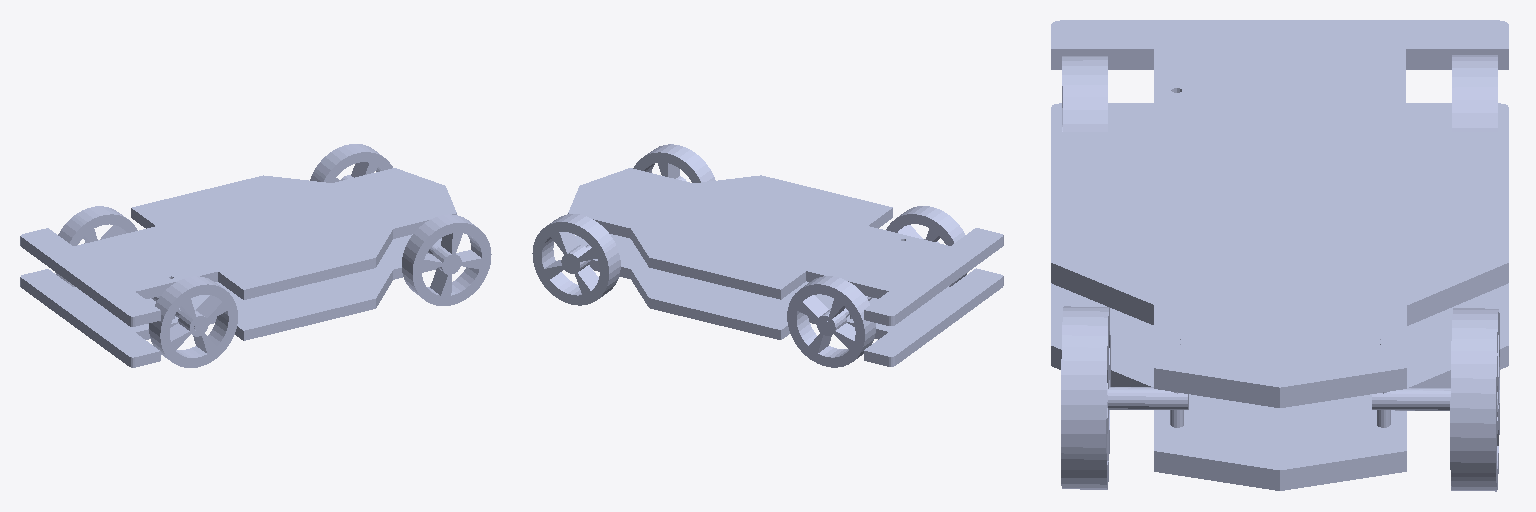
The robot description file, URDF, robot "Assem1":
<?xml version="1.0" ?>
<!-- =================================================================================== -->
<!-- |    This document was autogenerated by xacro from my_robot_integration.urdf.xacro | -->
<!-- |    EDITING THIS FILE BY HAND IS NOT RECOMMENDED                                 | -->
<!-- =================================================================================== -->
<!-- Name your robot here -->
<robot name="Assem1">
  <link name="chassis_base_link">
    <inertial>
      <origin rpy="0 0 0" xyz="-0.512674531540059 0.000153014474687185 -0.050898093669952"/>
      <mass value="19.1857141768798"/>
      <inertia ixx="0.306910302250378" ixy="-0.000859429568991598" ixz="-6.54892569443388E-10" iyy="1.21011395991777" iyz="-1.84958226856854E-10" izz="1.51472867661581"/>
    </inertial>
    <visual>
      <origin rpy="0 0 0" xyz="0 0 0"/>
      <geometry>
        <mesh filename="package://Assem1/meshes/base_link.STL"/>
      </geometry>
      <material name="">
        <color rgba="0.792156862745098 0.819607843137255 0.933333333333333 1"/>
      </material>
    </visual>
    <collision>
      <origin rpy="0 0 0" xyz="0 0 0"/>
      <geometry>
        <mesh filename="package://Assem1/meshes/base_link.STL"/>
      </geometry>
    </collision>
  </link>
  <link name="RearWheelLink">
    <inertial>
      <origin rpy="0 0 0" xyz="0.000948144504491211 -0.241806141125486 -2.22044604925031E-16"/>
      <mass value="1.93947210686836"/>
      <inertia ixx="0.00677424703879588" ixy="-2.32901067750332E-05" ixz="-7.11626362833658E-08" iyy="0.0127138524806755" iyz="-2.79035355661413E-10" izz="0.00677396797023345"/>
    </inertial>
    <visual>
      <origin rpy="0 0 0" xyz="0 0 0"/>
      <geometry>
        <mesh filename="package://Assem1/meshes/RearWheelLink.STL"/>
      </geometry>
      <material name="">
        <color rgba="0.792156862745098 0.819607843137255 0.933333333333333 1"/>
      </material>
    </visual>
    <collision>
      <origin rpy="0 0 0" xyz="0 0 0"/>
      <geometry>
        <mesh filename="package://Assem1/meshes/RearWheelLink.STL"/>
      </geometry>
    </collision>
  </link>
  <joint name="RearWheelJoint" type="continuous">
    <origin rpy="0 0 0" xyz="-0.7836 0.24183 -0.057144"/>
    <parent link="chassis_base_link"/>
    <child link="RearWheelLink"/>
    <axis xyz="-0.0039211 0.99999 0"/>
    <!-- <limit effort="0" lower="0" upper="0" velocity="0"/> -->
  </joint>
  <link name="FrontRightWheelLink">
    <inertial>
      <origin rpy="0 0 0" xyz="0.000641271779954732 0.0281208296775413 2.11071373823479E-07"/>
      <mass value="1.03741013370022"/>
      <inertia ixx="0.00349565083995949" ixy="6.53432629648742E-05" ixz="-5.42230800612793E-08" iyy="0.0063610036154418" iyz="1.22628256521874E-09" izz="0.00349433435996735"/>
    </inertial>
    <visual>
      <origin rpy="0 0 0" xyz="0 0 0"/>
      <geometry>
        <mesh filename="package://Assem1/meshes/FrontRightWheelLink.STL"/>
      </geometry>
      <material name="">
        <color rgba="0.792156862745098 0.819607843137255 0.933333333333333 1"/>
      </material>
    </visual>
    <collision>
      <origin rpy="0 0 0" xyz="0 0 0"/>
      <geometry>
        <mesh filename="package://Assem1/meshes/FrontRightWheelLink.STL"/>
      </geometry>
    </collision>
  </link>
  <joint name="FrontRightWheelJoint" type="continuous">
    <origin rpy="0 0 0" xyz="-0.12294 -0.24127 -0.057153"/>
    <parent link="chassis_base_link"/>
    <child link="FrontRightWheelLink"/>
    <axis xyz="0 0 1"/>
    <!-- <limit effort="0" lower="0" upper="0" velocity="0"/> -->
  </joint>
  <link name="FrontRightROtateLink">
    <inertial>
      <origin rpy="0 0 0" xyz="0.000578786386318815 0.0253934047799623 1.11022302462516E-16"/>
      <mass value="0.969736053434178"/>
      <inertia ixx="0.00338855006783689" ixy="6.76585972290175E-05" ixz="-5.42162701930126E-08" iyy="0.00635542977389955" iyz="1.23573972851785E-09" izz="0.00338705390311594"/>
    </inertial>
    <visual>
      <origin rpy="0 0 0" xyz="0 0 0"/>
      <geometry>
        <mesh filename="package://Assem1/meshes/FrontRightROtateLink.STL"/>
      </geometry>
      <material name="">
        <color rgba="0.792156862745098 0.819607843137255 0.933333333333333 1"/>
      </material>
    </visual>
    <collision>
      <origin rpy="0 0 0" xyz="0 0 0"/>
      <geometry>
        <mesh filename="package://Assem1/meshes/FrontRightROtateLink.STL"/>
      </geometry>
    </collision>
  </link>
  <joint name="FrontRightRotateJoint" type="continuous">
    <origin rpy="0 0 0" xyz="0 0 0"/>
    <parent link="FrontRightWheelLink"/>
    <child link="FrontRightROtateLink"/>
    <axis xyz="0.022787 0.99974 0"/>
    <limit effort="0" velocity="3.14"/>
  </joint>
  <link name="FrontLeftWheelLink">
    <inertial>
      <origin rpy="0 0 0" xyz="-0.000640874872750621 -0.0281208387241613 -3.74475280451314E-07"/>
      <mass value="1.03741013370022"/>
      <inertia ixx="0.00349572801412387" ixy="6.53416039769622E-05" ixz="2.29870879986147E-08" iyy="0.00636100365097488" iyz="-5.33552105019425E-10" izz="0.00349425715026989"/>
    </inertial>
    <visual>
      <origin rpy="0 0 0" xyz="0 0 0"/>
      <geometry>
        <mesh filename="package://Assem1/meshes/FrontLeftWheelLink.STL"/>
      </geometry>
      <material name="">
        <color rgba="0.792156862745098 0.819607843137255 0.933333333333333 1"/>
      </material>
    </visual>
    <collision>
      <origin rpy="0 0 0" xyz="0 0 0"/>
      <geometry>
        <mesh filename="package://Assem1/meshes/FrontLeftWheelLink.STL"/>
      </geometry>
    </collision>
  </link>
  <joint name="FrontLeftWheelJoint" type="revolute">
    <origin rpy="0 0 0" xyz="-0.11715 0.24229 -0.057144"/>
    <parent link="chassis_base_link"/>
    <child link="FrontLeftWheelLink"/>
    <axis xyz="0 0 1"/>
    <limit effort="0" lower="0" upper="0" velocity="0"/>
  </joint>
  <link name="FrontLeftWheelRotateLink">
    <inertial>
      <origin rpy="0 0 0" xyz="-0.000578786386318822 -0.0253934047799623 0"/>
      <mass value="0.969736053434178"/>
      <inertia ixx="0.00338862723744388" ixy="6.76568383188489E-05" ixz="2.29807160886008E-08" iyy="0.00635542981399" iyz="-5.23794492231945E-10" izz="0.00338697669341849"/>
    </inertial>
    <visual>
      <origin rpy="0 0 0" xyz="0 0 0"/>
      <geometry>
        <mesh filename="package://Assem1/meshes/FrontLeftWheelRotateLink.STL"/>
      </geometry>
      <material name="">
        <color rgba="0.792156862745098 0.819607843137255 0.933333333333333 1"/>
      </material>
    </visual>
    <collision>
      <origin rpy="0 0 0" xyz="0 0 0"/>
      <geometry>
        <mesh filename="package://Assem1/meshes/FrontLeftWheelRotateLink.STL"/>
      </geometry>
    </collision>
  </link>
  <joint name="FrontLeftWheelRotateJoint" type="prismatic">
    <origin rpy="0 0 0" xyz="0 0 0"/>
    <parent link="FrontLeftWheelLink"/>
    <child link="FrontLeftWheelRotateLink"/>
    <axis xyz="-0.022787 -0.99974 0"/>
    <limit effort="0" lower="0" upper="0" velocity="3.14"/>
  </joint>
  <transmission name="RearWheelJoint_trans">
    <type>transmission_interface/SimpleTransmission</type>
    <joint name="RearWheelJoint">
      <hardwareInterface>hardware_interface/VelocityJointInterface</hardwareInterface>
    </joint>
    <actuator name="RearWheelJoint_motor">
      <mechanicalReduction>50</mechanicalReduction>
      <hardwareInterface>hardware_interface/VelocityJointInterface</hardwareInterface>
    </actuator>
  </transmission>
  <transmission name="FrontRightRotateJoint_trans">
    <type>transmission_interface/SimpleTransmission</type>
    <joint name="FrontRightRotateJoint">
      <hardwareInterface>hardware_interface/EffortJointInterface</hardwareInterface>
    </joint>
    <actuator name="FrontRightRotateJoint_motor">
      <mechanicalReduction>50</mechanicalReduction>
      <hardwareInterface>hardware_interface/EffortJointInterface</hardwareInterface>
    </actuator>
  </transmission>  
  <transmission name="FrontLeftWheelRotateJoint_trans">
    <type>transmission_interface/SimpleTransmission</type>
    <joint name="FrontLeftWheelRotateJoint">
      <hardwareInterface>hardware_interface/EffortJointInterface</hardwareInterface>
    </joint>
    <actuator name="FrontLeftWheelRotateJoint_motor">
      <mechanicalReduction>50</mechanicalReduction>
      <hardwareInterface>hardware_interface/EffortJointInterface</hardwareInterface>
    </actuator>
  </transmission>  <link name="base_laser">
    <inertial>
      <origin rpy="0 0 0" xyz="-0.00029774 0.0066667 0.00013047"/>
      <mass value="0.15717"/>
      <inertia ixx="6.7885E-05" ixy="-1.3987E-07" ixz="-8.1554E-07" iyy="0.00013173" iyz="-9.0932E-08" izz="7.1972E-05"/>
    </inertial>
    <visual>
      <origin rpy="0 0 0" xyz="0 0 0"/>
      <geometry>
        <mesh filename="package://Assem1/meshes/ydlidar.dae"/>
      </geometry>
      <material name="">
        <color rgba="0.64706 0.61961 0.58824 1"/>
      </material>
    </visual>
    <collision>
      <origin rpy="0 0 0" xyz="0 0 0"/>
      <geometry>
        <mesh filename="package://Assem1/meshes/ydlidar.dae"/>
      </geometry>
    </collision>
  </link>
  <link name="laser_frame">
    <inertial>
      <origin rpy="0 0 0" xyz="-0.00036659 0.00064155 -0.00027052"/>
      <mass value="0.25482"/>
      <inertia ixx="8.9194E-05" ixy="1.8116E-07" ixz="3.6435E-08" iyy="0.00018279" iyz="2.423E-07" izz="0.00011103"/>
    </inertial>
    <!--visual>
      <origin
        xyz="0 0 0"
        rpy="0 0 0" />
      <geometry>
        <mesh
          filename="package://Assem1/meshes/ydlidar.dae" />
      </geometry>
      <material
        name="">
        <color
          rgba="0.64706 0.61961 0.58824 1" />
      </material>
    </visual-->
    <!--collision>
      <origin
        xyz="0 0 0"
        rpy="0 0 0" />
      <geometry>
        <mesh
          filename="package://Assem1/meshes/ydlidar.dae" />
      </geometry>
    </collision-->
  </link>
  <joint name="laser_joint" type="fixed">
    <origin rpy="0 0 0" xyz="0 0 0.03172"/>
    <parent link="base_laser"/>
    <child link="laser_frame"/>
    <axis xyz="0 0 0"/>
  </joint>
  <!-- Add your gazebo sensors here -->
  <gazebo reference="base_laser">
    <!-- <gravity>true</gravity> -->
    <!-- Gazebo has fixed set of Sensors types. Check them out here <> -->
    <sensor name="laser" type="ray">
      <!-- Add in your sensor characteristics -->
      <pose> 0 0 0 0 0 0 </pose>
      <visualise>true</visualise>
      <update_rate>40</update_rate>
      <!-- <always_on>true</always_on> -->
      <ray>
        <scan>
          <horizontal>
            <samples>720</samples>
            <resolution>1</resolution>
            <min_angle>-1.570796</min_angle>
            <max_angle>1.570796</max_angle>
          </horizontal>
        </scan>
        <range>
          <min>1</min>
          <max>30.0</max>
          <resolution>0.01</resolution>
        </range>
        <noise>
          <type>gaussian</type>
          <mean>0.0</mean>
          <stddev>0.01</stddev>
        </noise>
      </ray>
      <plugin filename="libgazebo_ros_laser.so" name="gazebo_ros_head_hokuyo_controller">
        <!-- Use topic name as /my_robot/scan -->
        <topicName>/Assem1/scan</topicName>
        <frameName>laser_frame</frameName>
      </plugin>
    </sensor>
  </gazebo>
  <!--  Gazebo plugin for control here is already added for you -->
  <gazebo>
    <plugin filename="libgazebo_ros_control.so" name="gazebo_ros_control">
      <robotNamespace>/Assem1</robotNamespace>
      <robotSimType>gazebo_ros_control/DefaultRobotHWSim</robotSimType>
      <legacyModeNS>true</legacyModeNS>
    </plugin>
  </gazebo>
  <!-- Create a joint between your robot and sensor -->
  <!-- <this is dummy link> -->
  <link name="base_link">
	</link>
  <joint name="base_link_to_chassis_joint" type="fixed">
    <origin rpy="0 0 0" xyz="0 0 0.2"/>
    <parent link="base_link"/>
    <child link="chassis_base_link"/>
    <!-- <axis xyz="0 0 0"/> -->
    <!-- <limit effort="0" lower="0" upper="0" velocity="0"/> -->
  </joint>
  <joint name="chassis_to_base_laser_joint" type="fixed">
    <origin rpy="0 0 0" xyz="0 0 0.015"/>
    <parent link="chassis_base_link"/>
    <child link="base_laser"/>
    <axis xyz="0 0 0"/>
  </joint>

</robot>

--- What the picture shows (computed from the rendered views, not written in the file) ---
3 views of the same robot in one strip: view 1: azimuth 30°, elevation 25°; view 2: azimuth 150°, elevation 25°; view 3: azimuth 270°, elevation 25° (orthographic).
Robot: Assem1 — 9 links, 8 joints (1 revolute, 3 continuous, 1 prismatic, 3 fixed); root link base_link; default pose: every joint at zero.
Visible links, largest first — view 1: chassis_base_link, RearWheelLink, FrontRightWheelLink, FrontLeftWheelLink; view 2: chassis_base_link, RearWheelLink, FrontLeftWheelLink, FrontRightWheelLink; view 3: chassis_base_link, FrontLeftWheelLink, FrontRightWheelLink, RearWheelLink.
Link boxes in pixels (x1,y1,x2,y2): chassis_base_link: (20, 168, 456, 367); RearWheelLink: (55, 206, 237, 367); FrontRightWheelLink: (402, 214, 491, 305); FrontLeftWheelLink: (310, 144, 392, 182); chassis_base_link: (568, 168, 1003, 366); RearWheelLink: (787, 206, 966, 367); FrontLeftWheelLink: (532, 214, 620, 305); FrontRightWheelLink: (633, 144, 715, 182); chassis_base_link: (1051, 20, 1508, 490); FrontLeftWheelLink: (1372, 308, 1499, 491); FrontRightWheelLink: (1061, 306, 1188, 489); RearWheelLink: (1062, 55, 1497, 131).
Size in the robot's own frame: 0.9652 by 0.508 by 0.2029 metres.
6 mesh visuals loaded from 7 distinct referenced files (6 binary STL); not drawn: 1 (reference not matched to a file when rendering).
